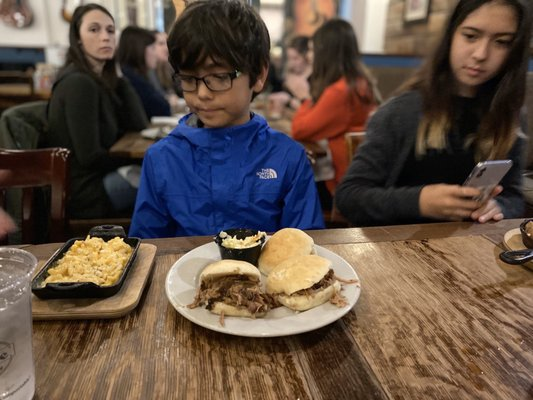sandwich: (31, 236, 81, 288)
